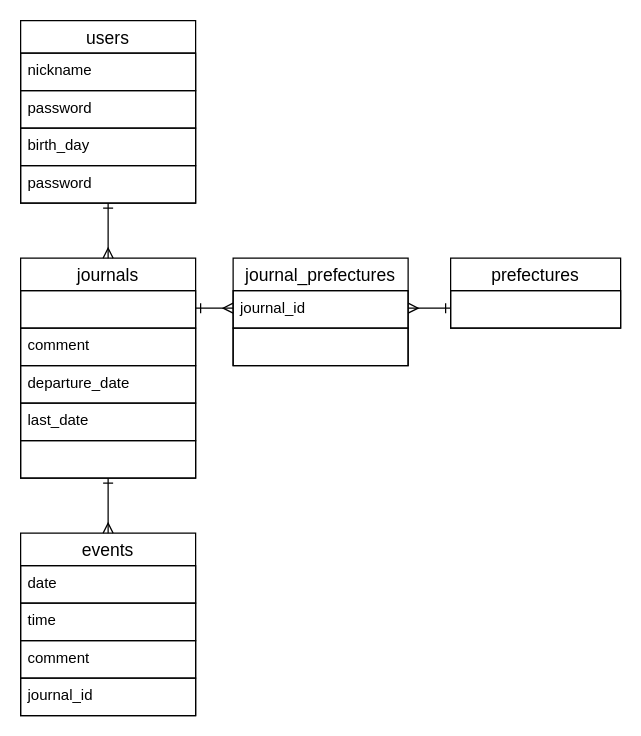
The diagram is 641 pixels wide and 736 high, and some of its shapes have lost their labels. Here are the shapes that lost their labels. From the top down, the centre of each, then its label:
At (x=107, y=308): "title".
At (x=535, y=308): "prefecture_list_id".
At (x=320, y=346): "prefecture_id".
At (x=107, y=458): "user_id".
